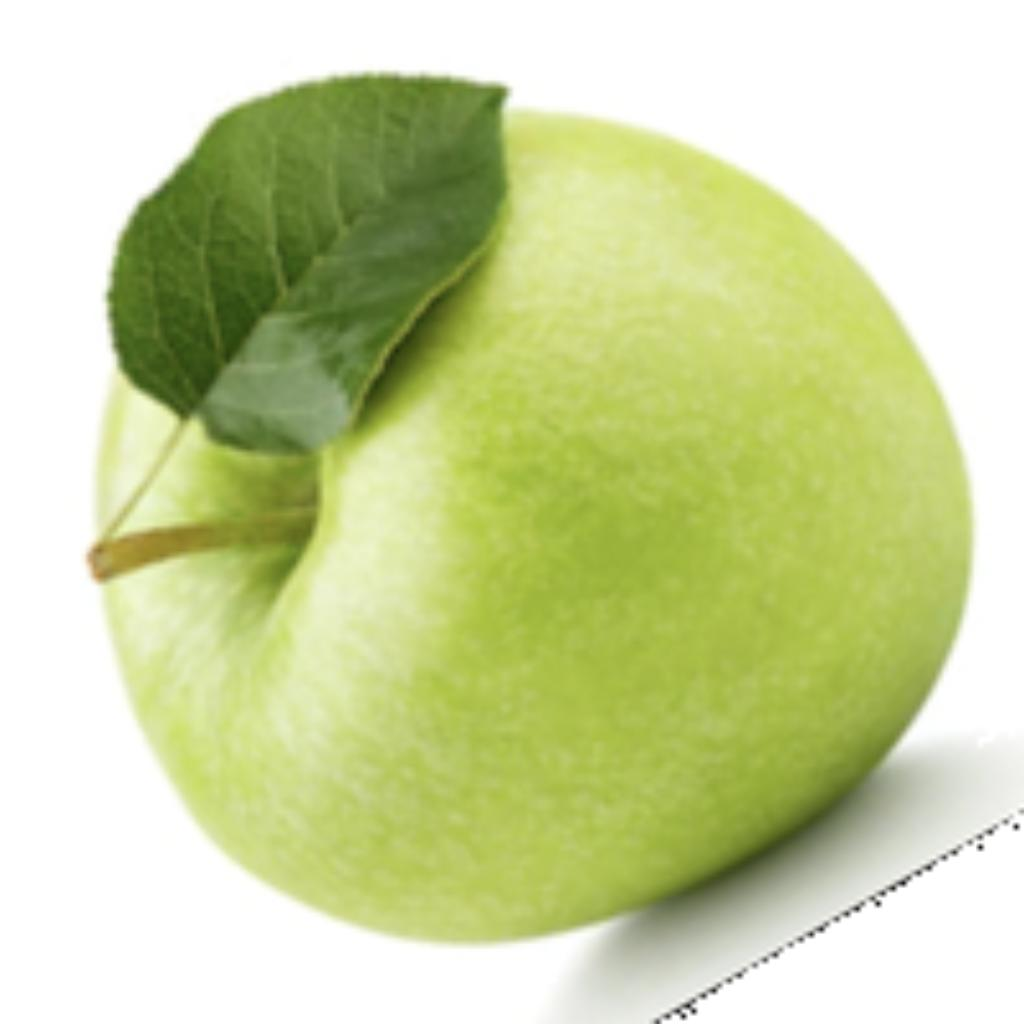apple: (77, 61, 1019, 1019)
